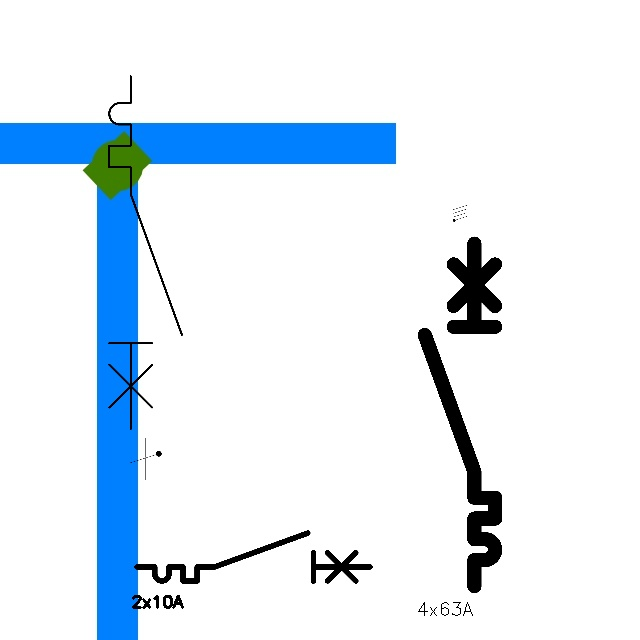interruptor_termomagnetico: (100, 67, 191, 438), (416, 234, 504, 594), (131, 527, 376, 587)
